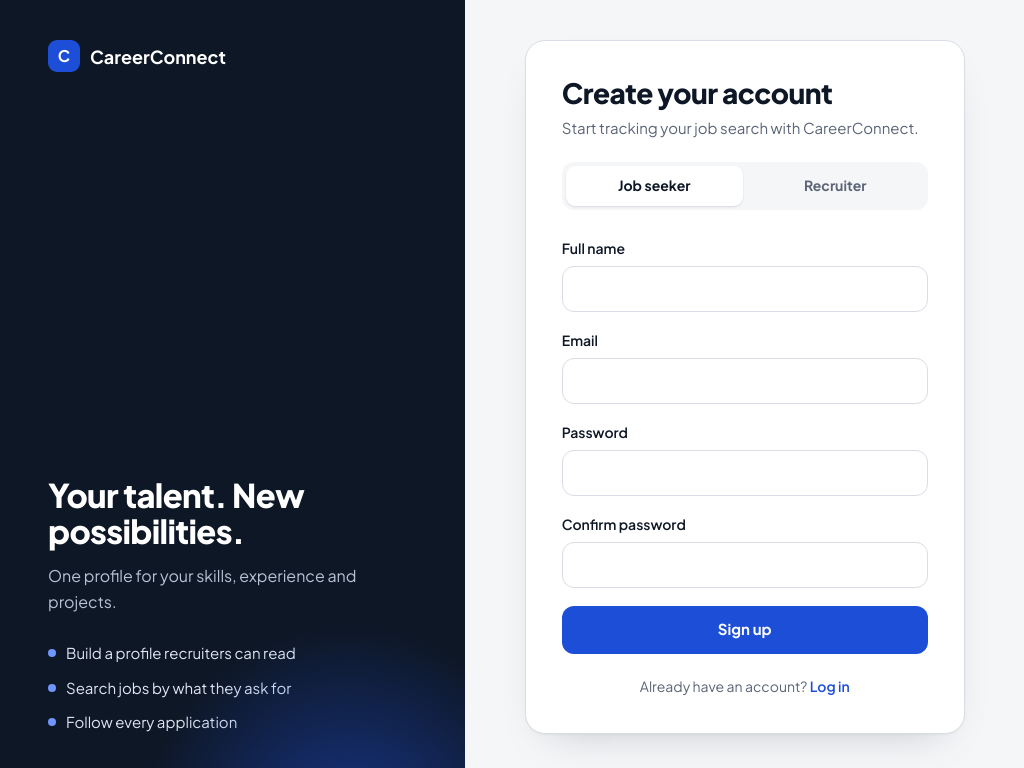
it: signup submission › handles a thrown signup error without redirecting
In the field labelled "Full name": (745, 289) [562,266,928,312], type "Test User"
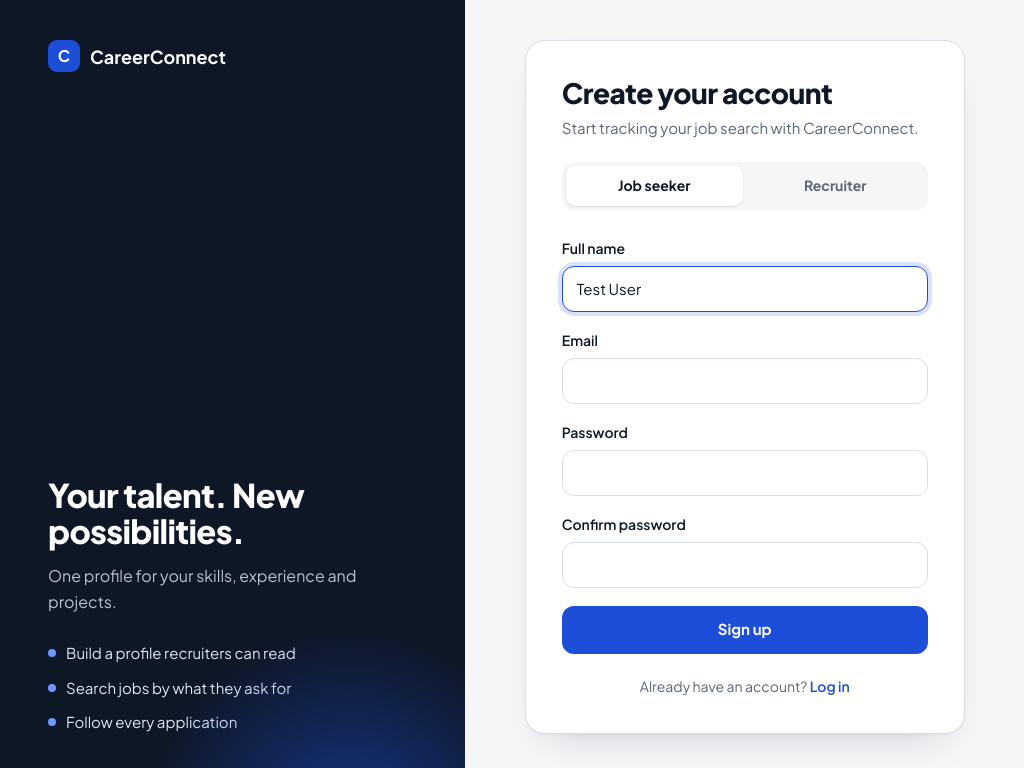
In the field labelled "Email": (745, 381) [562,358,928,404], type "test@example.com"
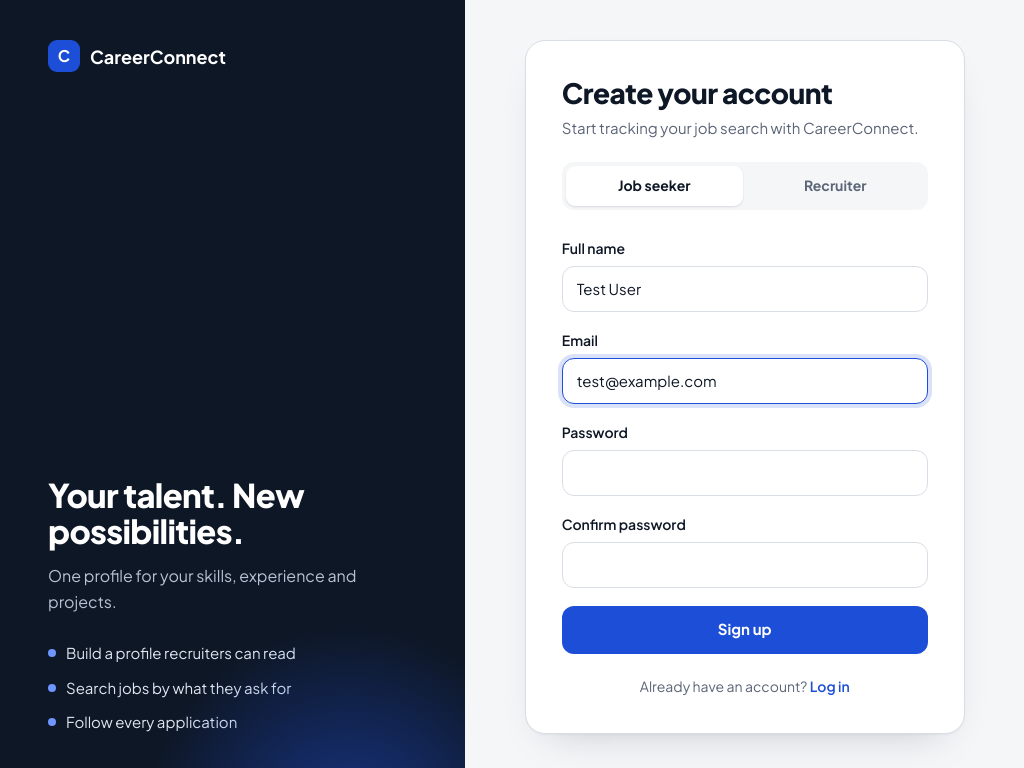
In the password field labelled "Password": (745, 473) [562,450,928,496], type "Password123"
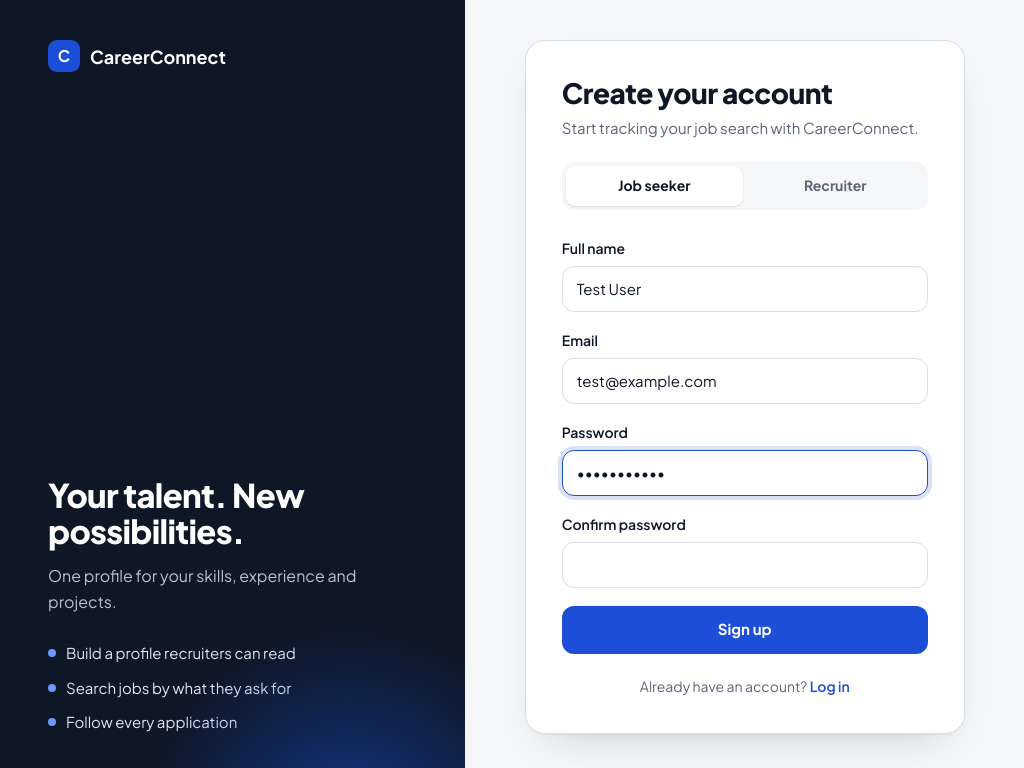
In the password field labelled "Confirm password": (745, 565) [562,542,928,588], type "Password123"
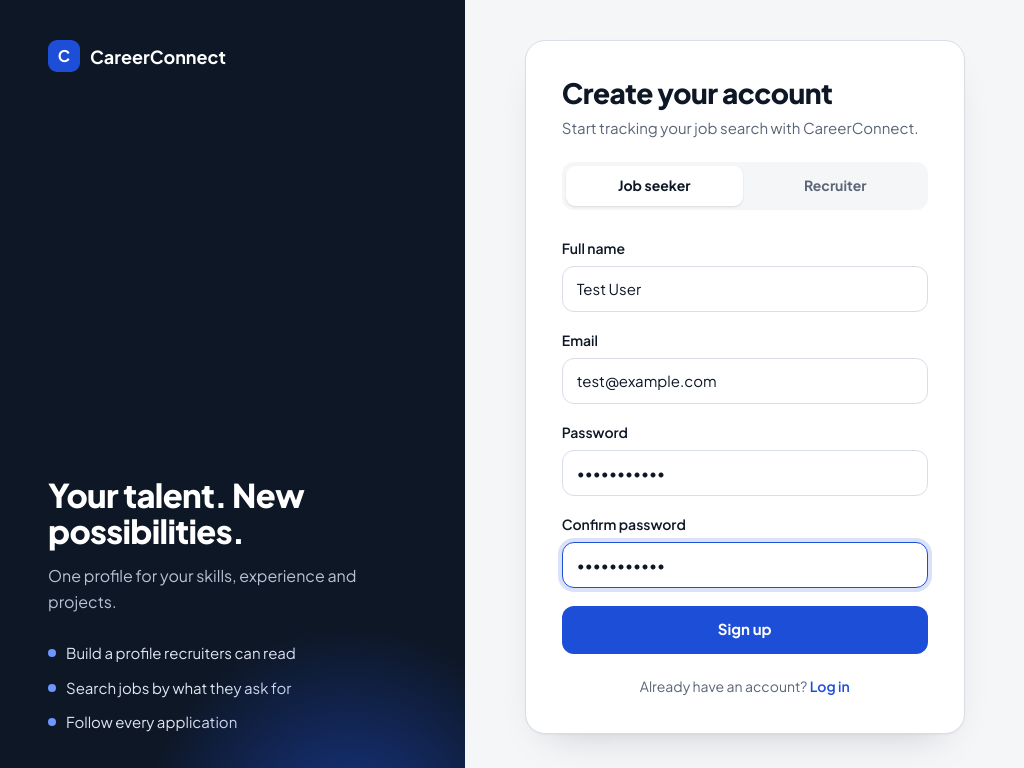
Click the button "Sign up": (745, 630) [562,606,928,654]
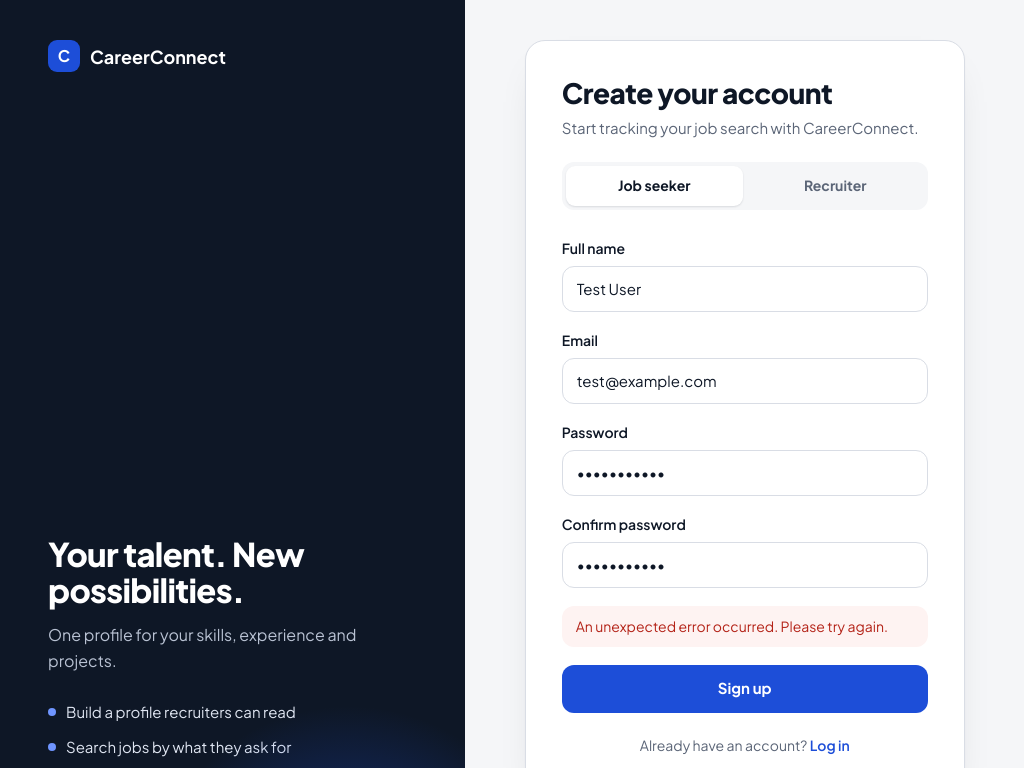
expect the button "Sign up" is enabled: met, box [562,665,928,713]
expect the text "An unexpected error occurred. Please try again." is shown: met, box [562,606,928,647]
